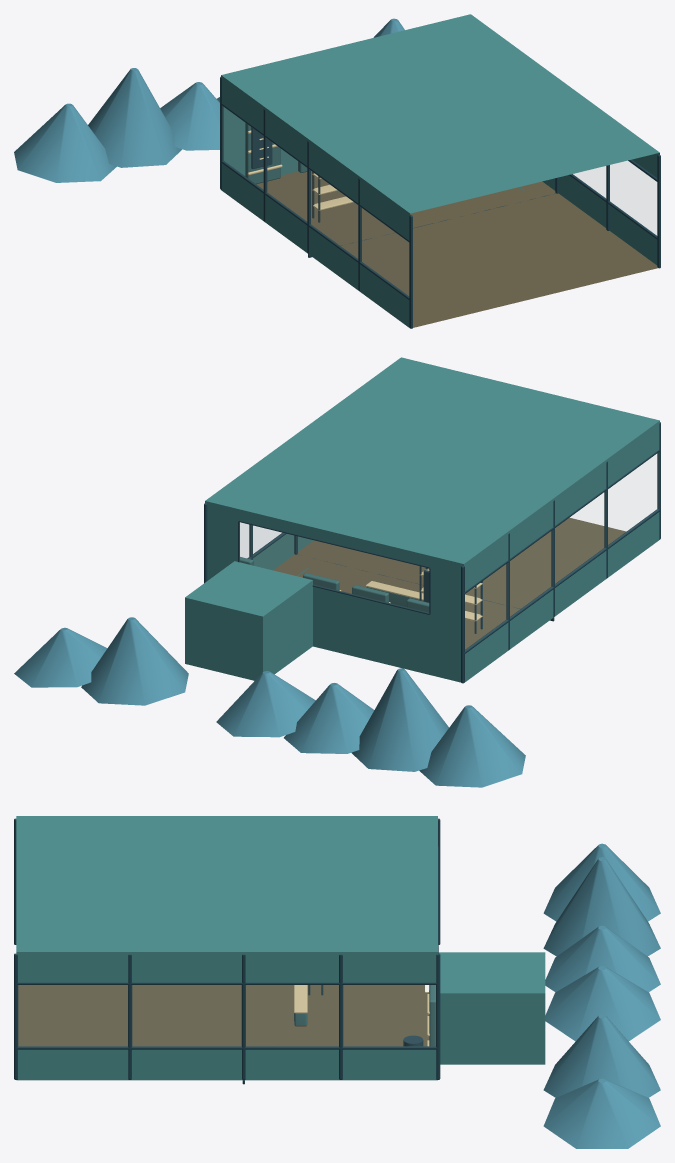
File: depot.glb
3 views of the same model, one above another, from view 1: azimuth 30°, elevation 25°; view 2: azimuth 150°, elevation 25°; view 3: azimuth 270°, elevation 25° (orthographic). The views are drawn at different scales.
Visible parts, largest first — view 1: Roof panels - Wall, Floor extension - Floor, Outside the glazing - Glass rim, Port wall - Wall, Floor - Floor, Port wall - Rib, Starboard wall - Wall, Rear bulkhead - Wall, Starboard wall - Rib, Signature architecture - Secondary, Signature architecture - Rib, Goods shelf - Pale; view 2: Roof panels - Wall, Outside the glazing - Glass rim, Rear bulkhead - Wall, Port wall - Wall, Stockroom - Wall, Floor extension - Floor, Store lid - Wall, Floor - Floor, Port wall - Rib, Signature architecture - Secondary, Starboard wall - Wall, Rear bulkhead - Rib (+1 smaller); view 3: Roof panels - Wall, Outside the glazing - Glass rim, Starboard wall - Wall, Floor extension - Floor, Floor - Floor, Stockroom - Wall, Starboard wall - Rib, Store lid - Wall, Port wall - Rib.
Part boxes in pixels (<box>): Roof panels - Wall: <box>221,14,659,213</box>; Floor extension - Floor: <box>341,193,657,327</box>; Outside the glazing - Glass rim: <box>14,18,404,182</box>; Port wall - Wall: <box>221,75,410,327</box>; Floor - Floor: <box>256,171,555,245</box>; Port wall - Rib: <box>220,77,412,328</box>; Starboard wall - Wall: <box>542,153,659,265</box>; Rear bulkhead - Wall: <box>223,107,297,175</box>; Starboard wall - Rib: <box>555,154,660,268</box>; Signature architecture - Secondary: <box>245,123,307,184</box>; Signature architecture - Rib: <box>251,127,272,168</box>; Goods shelf - Pale: <box>312,173,353,210</box>; Roof panels - Wall: <box>205,357,659,563</box>; Outside the glazing - Glass rim: <box>14,617,525,787</box>; Rear bulkhead - Wall: <box>205,501,463,682</box>; Port wall - Wall: <box>464,421,659,682</box>; Stockroom - Wall: <box>185,580,312,680</box>; Floor extension - Floor: <box>297,517,626,608</box>; Store lid - Wall: <box>185,561,312,616</box>; Floor - Floor: <box>273,554,519,649</box>; Port wall - Rib: <box>461,422,660,683</box>; Signature architecture - Secondary: <box>240,557,429,612</box>; Starboard wall - Wall: <box>253,534,313,570</box>; Rear bulkhead - Rib: <box>238,520,430,614</box>; Roof panels - Wall: <box>16,816,437,951</box>; Outside the glazing - Glass rim: <box>543,843,660,1148</box>; Starboard wall - Wall: <box>16,952,437,1080</box>; Floor extension - Floor: <box>18,985,241,1046</box>; Floor - Floor: <box>246,985,429,1046</box>; Stockroom - Wall: <box>440,993,545,1064</box>; Starboard wall - Rib: <box>14,953,440,1079</box>; Store lid - Wall: <box>438,952,545,993</box>; Port wall - Rib: <box>14,818,440,944</box>.
Bounding box in the file's own units: 36.79 × 9.43 × 38.64.
